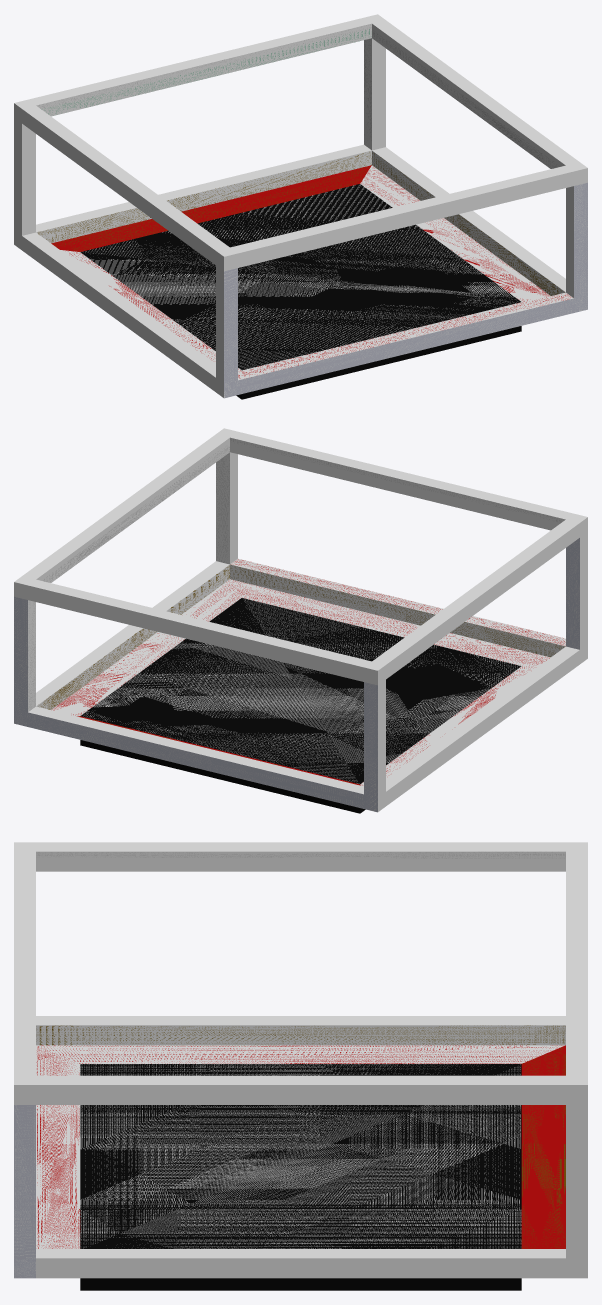
File: table_large_frame.dae
The picture shows the model from 3 angles, top to bottom: view 1: azimuth 30°, elevation 25°; view 2: azimuth 150°, elevation 25°; view 3: azimuth 270°, elevation 25°; orthographic projection. The views are drawn at different scales.
Visible parts, largest first — view 1: SketchUp_019, SketchUp_001, SketchUp_014, SketchUp_009, SketchUp_006, SketchUp_010, SketchUp_015, SketchUp_002, SketchUp_008, SketchUp_016, SketchUp_031, SketchUp (+3 smaller); view 2: SketchUp_001, SketchUp_019, SketchUp_009, SketchUp_008, SketchUp_014, SketchUp_002, SketchUp_016, SketchUp_030, SketchUp, SketchUp_003, SketchUp_004, SketchUp_021 (+1 smaller); view 3: SketchUp_001, SketchUp_019, SketchUp_009, SketchUp_008, SketchUp_010, SketchUp, SketchUp_029.
Boxes of the visible parts, x1=… form: SketchUp_019: x1=80, y1=184, x2=521, y2=370; SketchUp_001: x1=14, y1=14, x2=587, y2=398; SketchUp_014: x1=238, y1=24, x2=573, y2=297; SketchUp_009: x1=60, y1=165, x2=550, y2=372; SketchUp_006: x1=36, y1=150, x2=371, y2=243; SketchUp_010: x1=51, y1=165, x2=371, y2=251; SketchUp_015: x1=41, y1=28, x2=371, y2=116; SketchUp_002: x1=238, y1=292, x2=573, y2=380; SketchUp_008: x1=372, y1=151, x2=565, y2=295; SketchUp_016: x1=372, y1=29, x2=560, y2=168; SketchUp_031: x1=36, y1=23, x2=371, y2=108; SketchUp: x1=236, y1=326, x2=521, y2=399; SketchUp_001: x1=14, y1=428, x2=587, y2=812; SketchUp_019: x1=80, y1=598, x2=521, y2=784; SketchUp_009: x1=51, y1=579, x2=550, y2=786; SketchUp_008: x1=36, y1=564, x2=565, y2=709; SketchUp_014: x1=36, y1=438, x2=560, y2=580; SketchUp_002: x1=230, y1=558, x2=565, y2=646; SketchUp_016: x1=41, y1=443, x2=229, y2=582; SketchUp_030: x1=230, y1=437, x2=565, y2=522; SketchUp: x1=80, y1=740, x2=365, y2=813; SketchUp_003: x1=216, y1=452, x2=229, y2=564; SketchUp_004: x1=580, y1=532, x2=587, y2=649; SketchUp_021: x1=28, y1=600, x2=35, y2=711; SketchUp_001: x1=14, y1=842, x2=587, y2=1278; SketchUp_019: x1=80, y1=1064, x2=521, y2=1248; SketchUp_009: x1=36, y1=1045, x2=564, y2=1248; SketchUp_008: x1=36, y1=1025, x2=565, y2=1045; SketchUp_010: x1=521, y1=1045, x2=565, y2=1248; SketchUp: x1=80, y1=1278, x2=521, y2=1290; SketchUp_029: x1=36, y1=851, x2=565, y2=858.
Size of the model in its own units: 0.9906 by 0.9906 by 0.4445.
